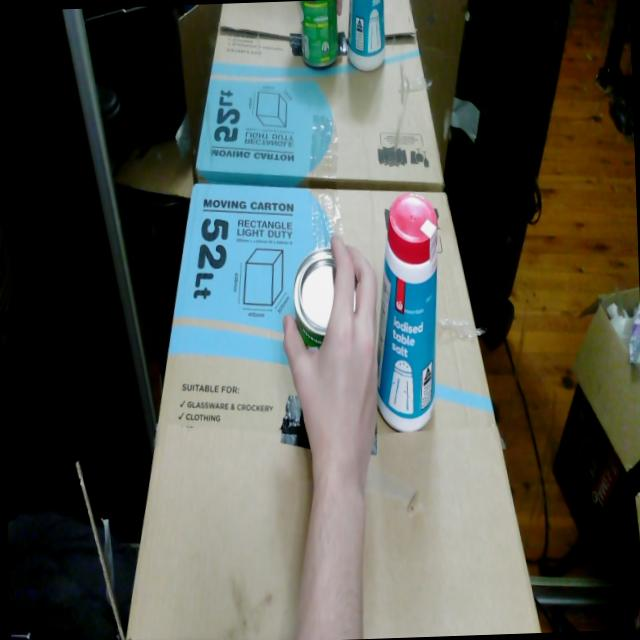nestle_milo_tin: (293, 247, 335, 350), (353, 292, 355, 312)
woolworths_salt_bottle: (376, 193, 437, 431)
